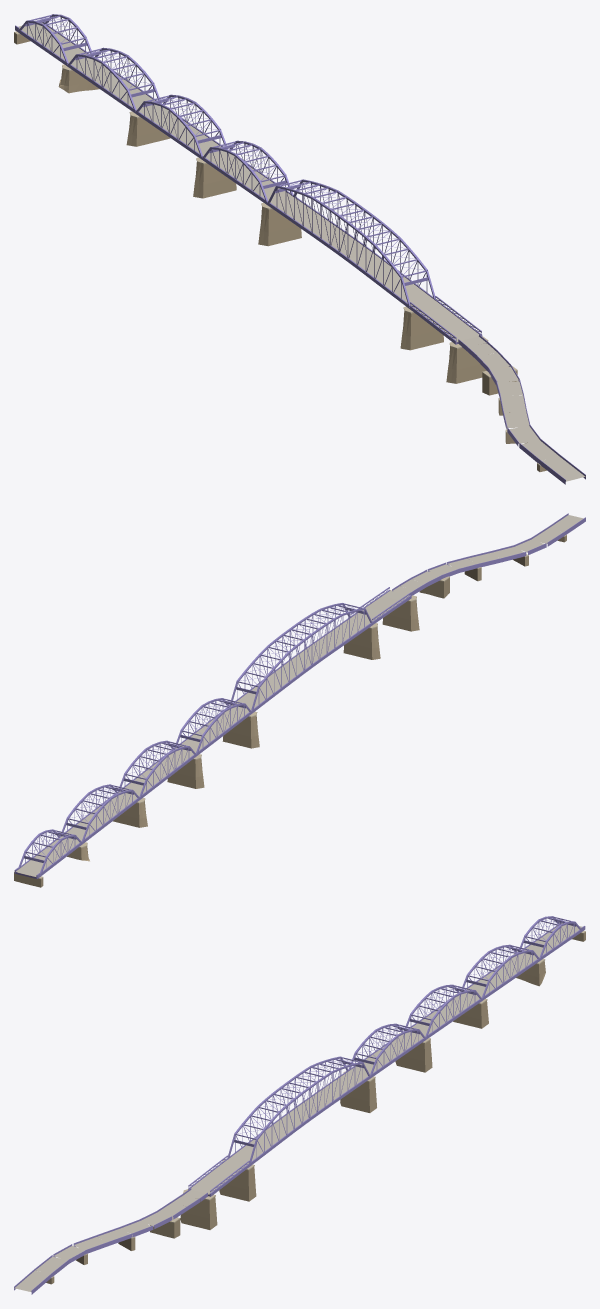
Rendered from cin-purple-people-bridge.glb.
The picture shows the model from 3 angles, top to bottom: view 1: azimuth 30°, elevation 25°; view 2: azimuth 150°, elevation 25°; view 3: azimuth 330°, elevation 25°; orthographic projection. The views are drawn at different scales.
Visible parts, largest first — view 1: Purple People Bridge; view 2: Purple People Bridge; view 3: Purple People Bridge.
Boxes of the visible parts, x1,y1,x2,y2 form: Purple People Bridge: [14, 14, 585, 484]; Purple People Bridge: [14, 513, 585, 887]; Purple People Bridge: [14, 916, 585, 1294].
Bounding box in the file's own units: 50.01 × 47.3 × 652.
